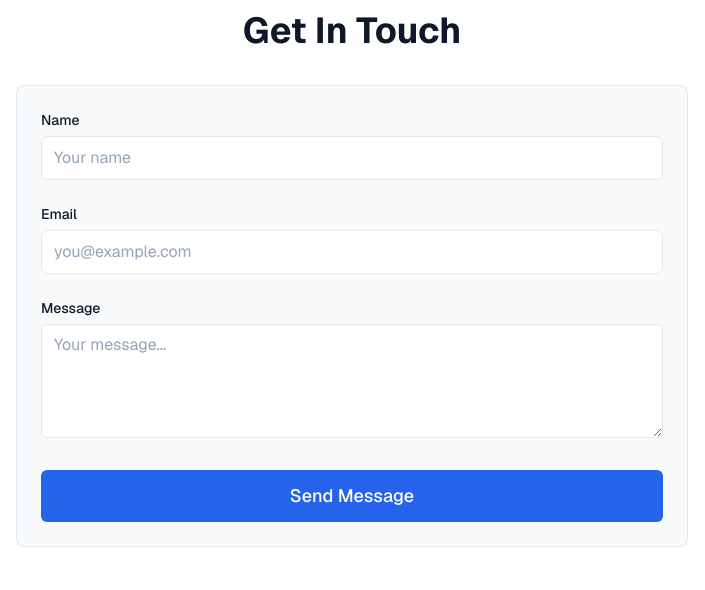
Contact › shows client-side validation error for invalid email
Type "John" into the field labelled "Name". click: (352, 158)
box: x1=41 y1=136 x2=663 y2=180
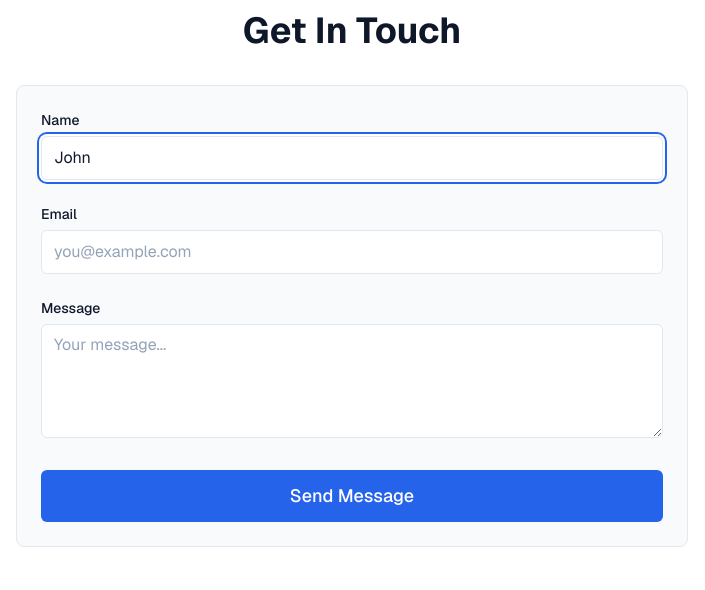
Type "not-an-email" into the field labelled "Email". click: (352, 252)
box: x1=41 y1=230 x2=663 y2=274
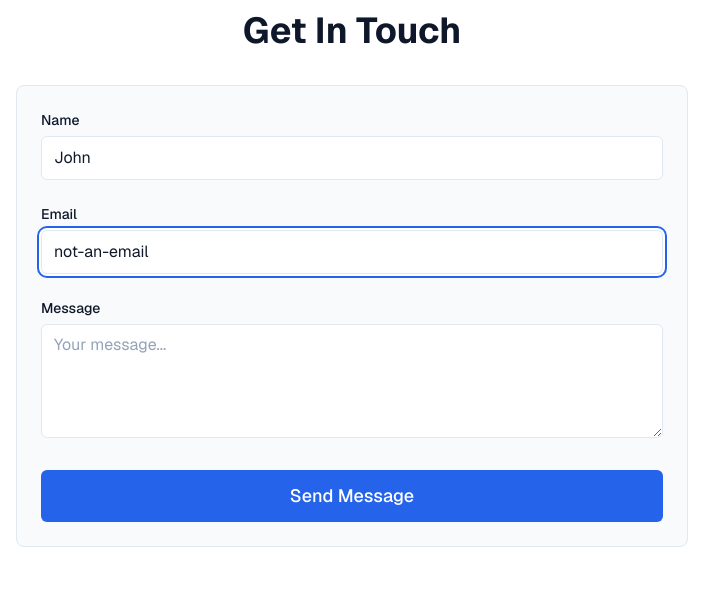
Type "Hello" into the text box labelled "Message". click: (352, 381)
box: x1=41 y1=324 x2=663 y2=438
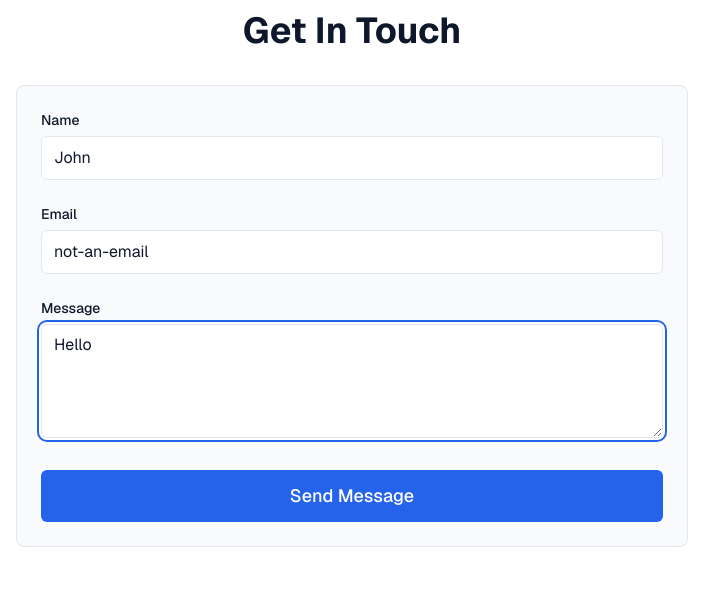
Click the button "Send Message". click: (352, 496)
box: x1=41 y1=470 x2=663 y2=522
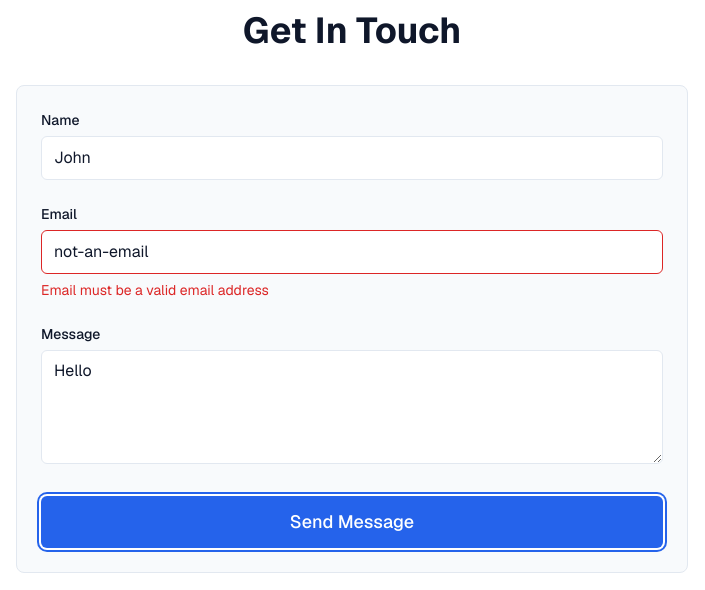
Result: the text "Email must be a valid email address" is shown at x1=41 y1=281 x2=269 y2=299
